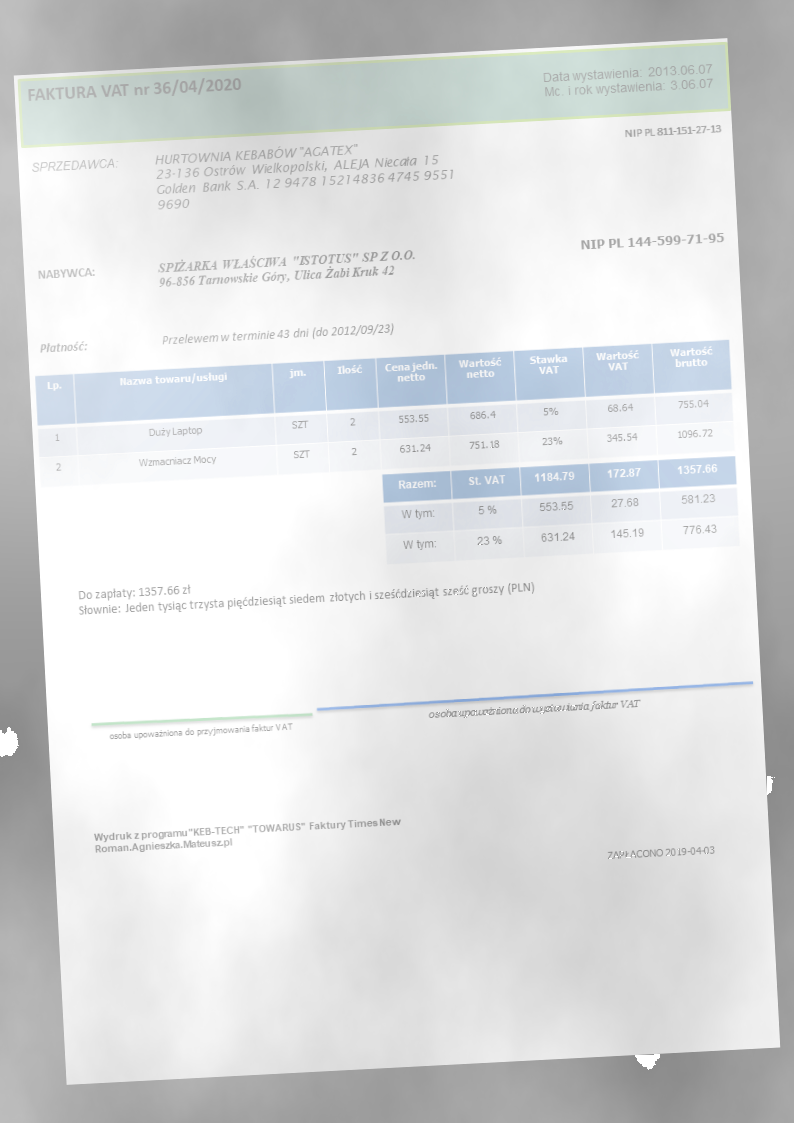Table: (33, 337, 736, 488), (381, 456, 740, 565)
TextBox: (75, 564, 537, 623), (151, 135, 457, 215), (92, 814, 404, 856), (155, 245, 418, 291), (539, 60, 717, 102), (24, 73, 244, 106), (158, 320, 395, 348), (425, 695, 643, 723), (108, 721, 295, 742), (577, 230, 725, 252), (604, 842, 717, 863), (29, 152, 119, 175), (621, 121, 723, 140), (35, 264, 98, 282), (37, 337, 90, 356)
